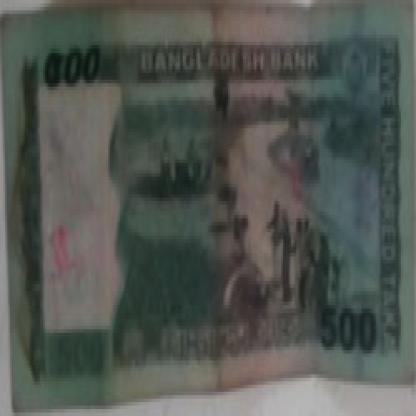500 taka: (310, 274, 396, 378), (38, 48, 110, 86)
currency: (7, 21, 414, 409)
